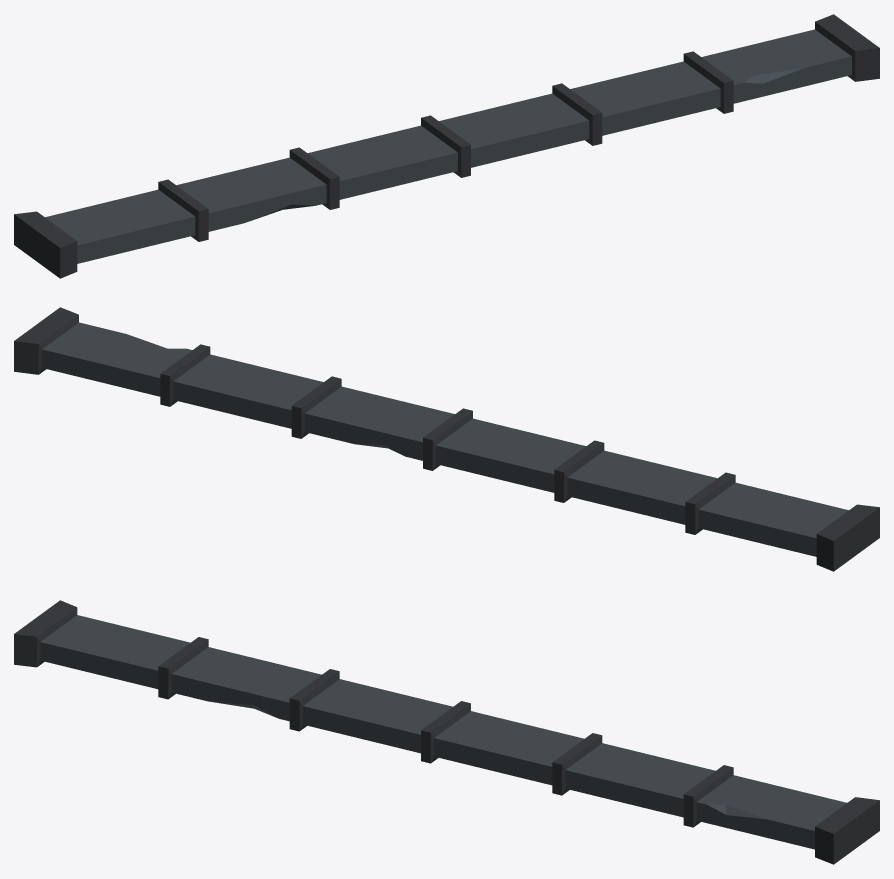
Rendered from SM_Prop_Detail_CeilingBox_01.fbx.
The picture shows the model from 3 angles, top to bottom: view 1: azimuth 30°, elevation 25°; view 2: azimuth 150°, elevation 25°; view 3: azimuth 330°, elevation 25°; orthographic projection.
Visible parts, largest first — view 1: SM_Prop_Detail_CeilingBox_01; view 2: SM_Prop_Detail_CeilingBox_01; view 3: SM_Prop_Detail_CeilingBox_01.
Boxes of the visible parts, bbox=[...] form: SM_Prop_Detail_CeilingBox_01: bbox=[14, 14, 879, 278]; SM_Prop_Detail_CeilingBox_01: bbox=[14, 307, 879, 571]; SM_Prop_Detail_CeilingBox_01: bbox=[14, 600, 879, 864].
Size of the model in its own units: 500 by 17.96 by 48.86.
1 material, 1 textured.
